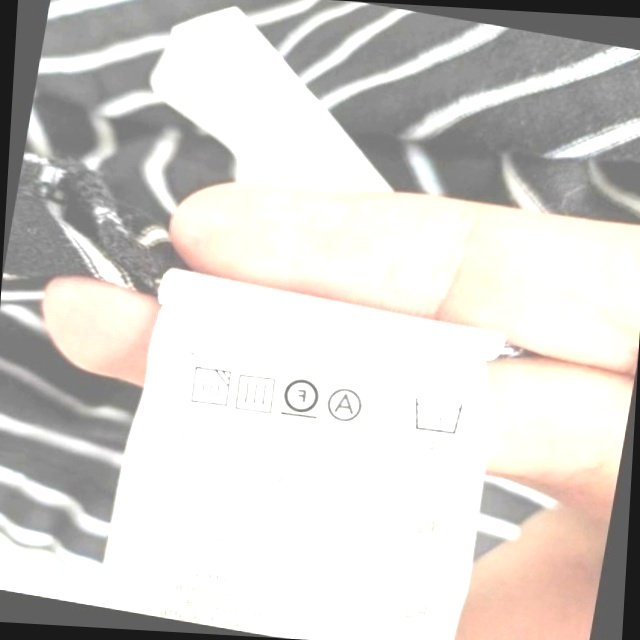95C: (406, 391, 468, 439)
bleach: (369, 386, 411, 433)
drip_dry: (230, 368, 281, 417)
drip_dry_in_shade: (182, 361, 234, 412)
dry_clean: (324, 383, 368, 426)
dry_clean_petrol_only: (277, 370, 324, 422)
